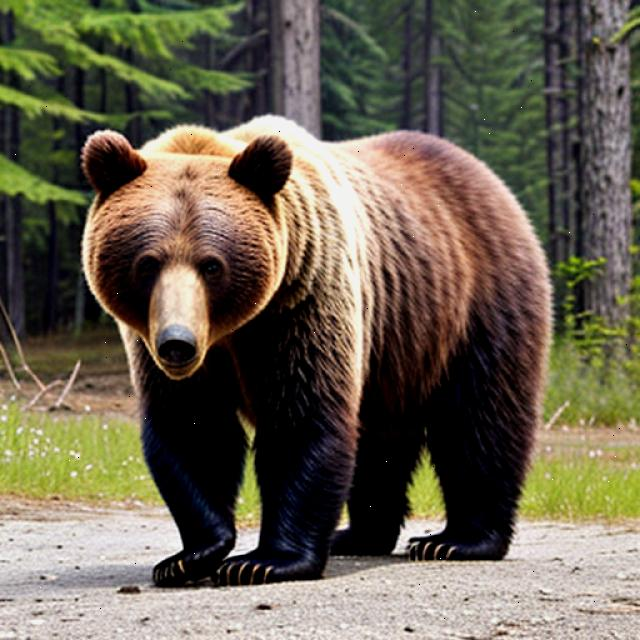bear: (69, 116, 318, 382)
